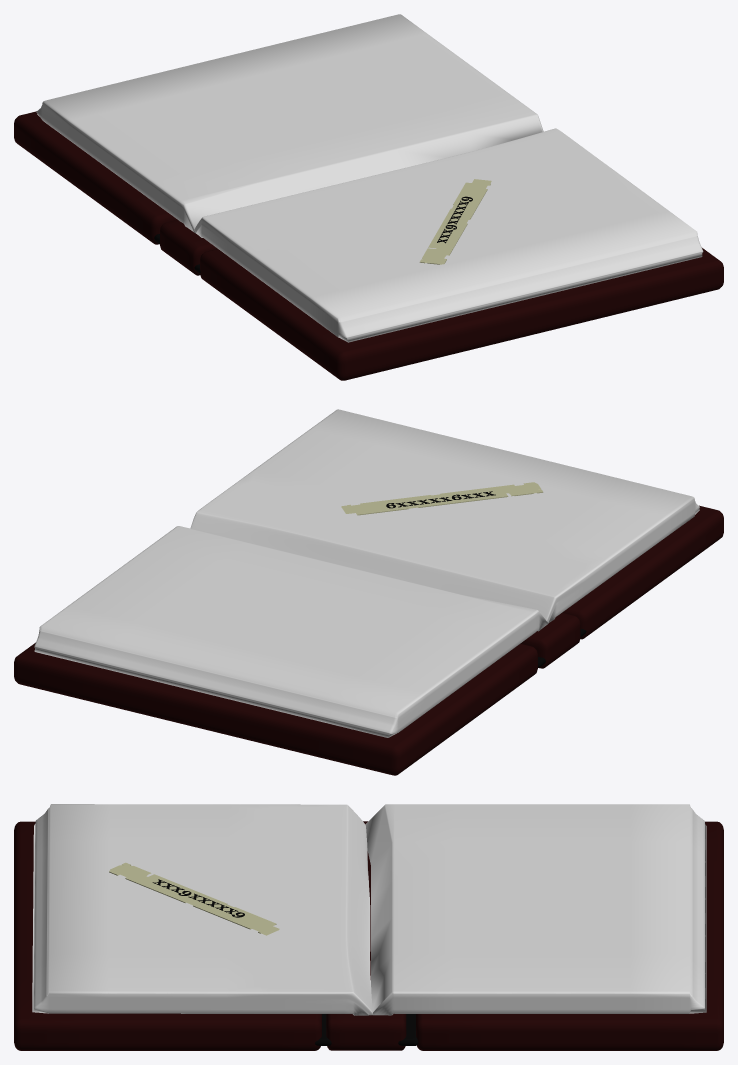
Rendered from hintBookOpen.FBX.
3 views of the same model, one above another, from view 1: azimuth 30°, elevation 25°; view 2: azimuth 150°, elevation 25°; view 3: azimuth 270°, elevation 25° (orthographic). The views are drawn at different scales.
Visible parts, largest first — view 1: ChamferBox007, ChamferBox006, ChamferBox002, ChamferBox003, Box001, ChamferBox001; view 2: ChamferBox006, ChamferBox007, ChamferBox003, ChamferBox002, Box001, ChamferBox001; view 3: ChamferBox006, ChamferBox007, ChamferBox002, ChamferBox003, ChamferBox001, Box001, Text001.
Part boxes in pixels (<box>): ChamferBox007: <box>194,128,703,342</box>; ChamferBox006: <box>36,14,543,233</box>; ChamferBox002: <box>200,248,723,380</box>; ChamferBox003: <box>14,111,177,244</box>; Box001: <box>419,179,491,264</box>; ChamferBox001: <box>160,220,217,275</box>; ChamferBox006: <box>34,526,548,737</box>; ChamferBox007: <box>190,409,699,623</box>; ChamferBox003: <box>14,642,537,775</box>; ChamferBox002: <box>562,505,723,639</box>; Box001: <box>341,482,543,515</box>; ChamferBox001: <box>521,613,580,668</box>; ChamferBox006: <box>365,804,706,1015</box>; ChamferBox007: <box>32,804,373,1015</box>; ChamferBox002: <box>14,821,321,1050</box>; ChamferBox003: <box>416,821,723,1050</box>; ChamferBox001: <box>326,821,406,1050</box>; Box001: <box>109,862,279,935</box>; Text001: <box>152,879,244,917</box>.
Size of the model in its own units: 28.06 by 3.66 by 41.23.
